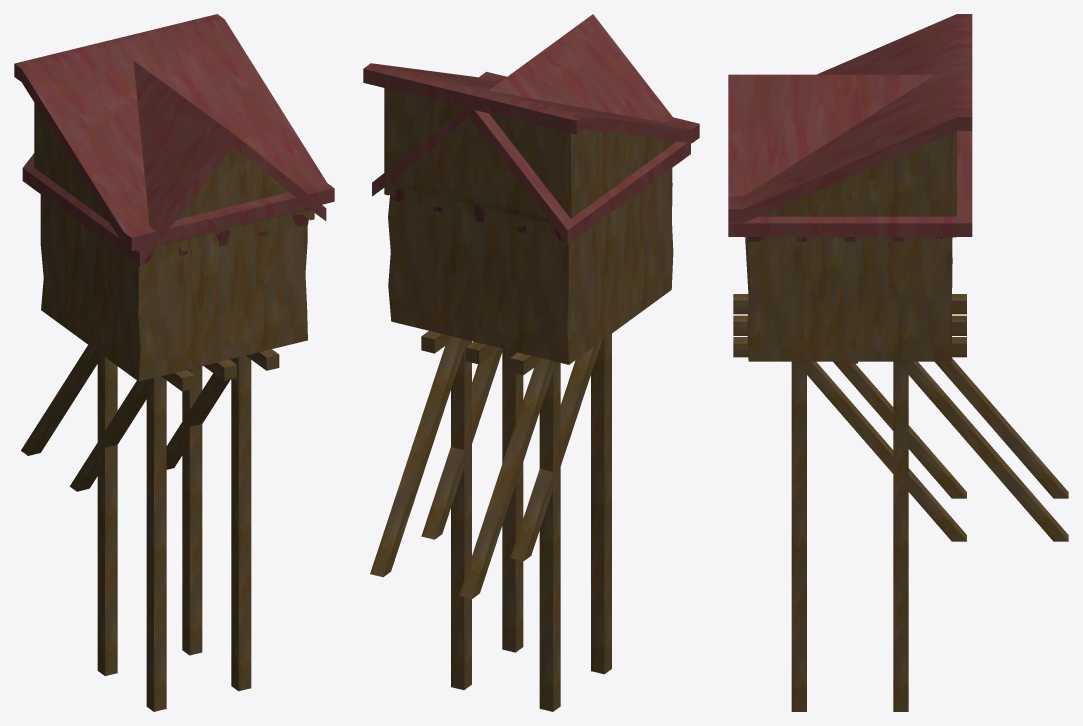
The model's file is PoorDistrictBuildingSmall_Model.fbx.
The picture shows the model from 3 angles, left to right: view 1: azimuth 30°, elevation 25°; view 2: azimuth 150°, elevation 25°; view 3: azimuth 270°, elevation 25°; orthographic projection. The views are drawn at different scales.
Parts seen in each view (by area): view 1: PoorDistrictBuildingSmall_Roof1, PoorDistrictBuildingSmall_Model, PoorDistrictBuildingSmall_SupportsStraight, PoorDistrictBuildingSmall_Roof2, PoorDistrictBuildingSmall_SupportsAngled, PoorDistrictBuildingSmall_Trim3, PoorDistrictBuildingSmall_Trim1; view 2: PoorDistrictBuildingSmall_Model, PoorDistrictBuildingSmall_Roof1, PoorDistrictBuildingSmall_SupportsStraight, PoorDistrictBuildingSmall_SupportsAngled, PoorDistrictBuildingSmall_Roof2, PoorDistrictBuildingSmall_Trim3, PoorDistrictBuildingSmall_Trim1, PoorDistrictBuildingSmall_Trim2; view 3: PoorDistrictBuildingSmall_Roof1, PoorDistrictBuildingSmall_Model, PoorDistrictBuildingSmall_Roof2, PoorDistrictBuildingSmall_SupportsAngled, PoorDistrictBuildingSmall_SupportsStraight.
Boxes of the visible parts, <box> form: PoorDistrictBuildingSmall_Roof1: <box>14,14,334,251</box>; PoorDistrictBuildingSmall_Model: <box>40,194,307,381</box>; PoorDistrictBuildingSmall_SupportsStraight: <box>97,352,251,711</box>; PoorDistrictBuildingSmall_Roof2: <box>22,60,326,266</box>; PoorDistrictBuildingSmall_SupportsAngled: <box>21,345,279,491</box>; PoorDistrictBuildingSmall_Trim3: <box>153,209,314,251</box>; PoorDistrictBuildingSmall_Trim1: <box>45,197,309,263</box>; PoorDistrictBuildingSmall_Model: <box>388,168,673,364</box>; PoorDistrictBuildingSmall_Roof1: <box>363,63,699,218</box>; PoorDistrictBuildingSmall_SupportsStraight: <box>451,334,611,711</box>; PoorDistrictBuildingSmall_SupportsAngled: <box>370,331,601,598</box>; PoorDistrictBuildingSmall_Roof2: <box>372,14,690,243</box>; PoorDistrictBuildingSmall_Trim3: <box>384,177,553,227</box>; PoorDistrictBuildingSmall_Trim1: <box>389,179,647,242</box>; PoorDistrictBuildingSmall_Trim2: <box>391,177,560,240</box>; PoorDistrictBuildingSmall_Roof1: <box>728,14,972,222</box>; PoorDistrictBuildingSmall_Model: <box>745,237,952,361</box>; PoorDistrictBuildingSmall_Roof2: <box>728,74,972,236</box>; PoorDistrictBuildingSmall_SupportsAngled: <box>733,294,1068,541</box>; PoorDistrictBuildingSmall_SupportsStraight: <box>791,363,908,711</box>.
Size of the model in its own units: 480 by 1350 by 670.
